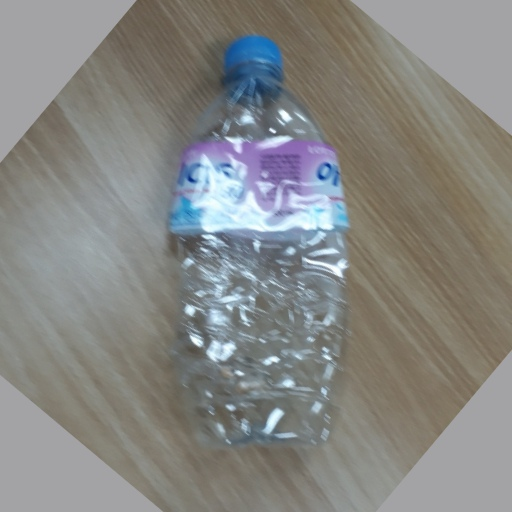Plastic_0: (172, 35, 353, 457)
